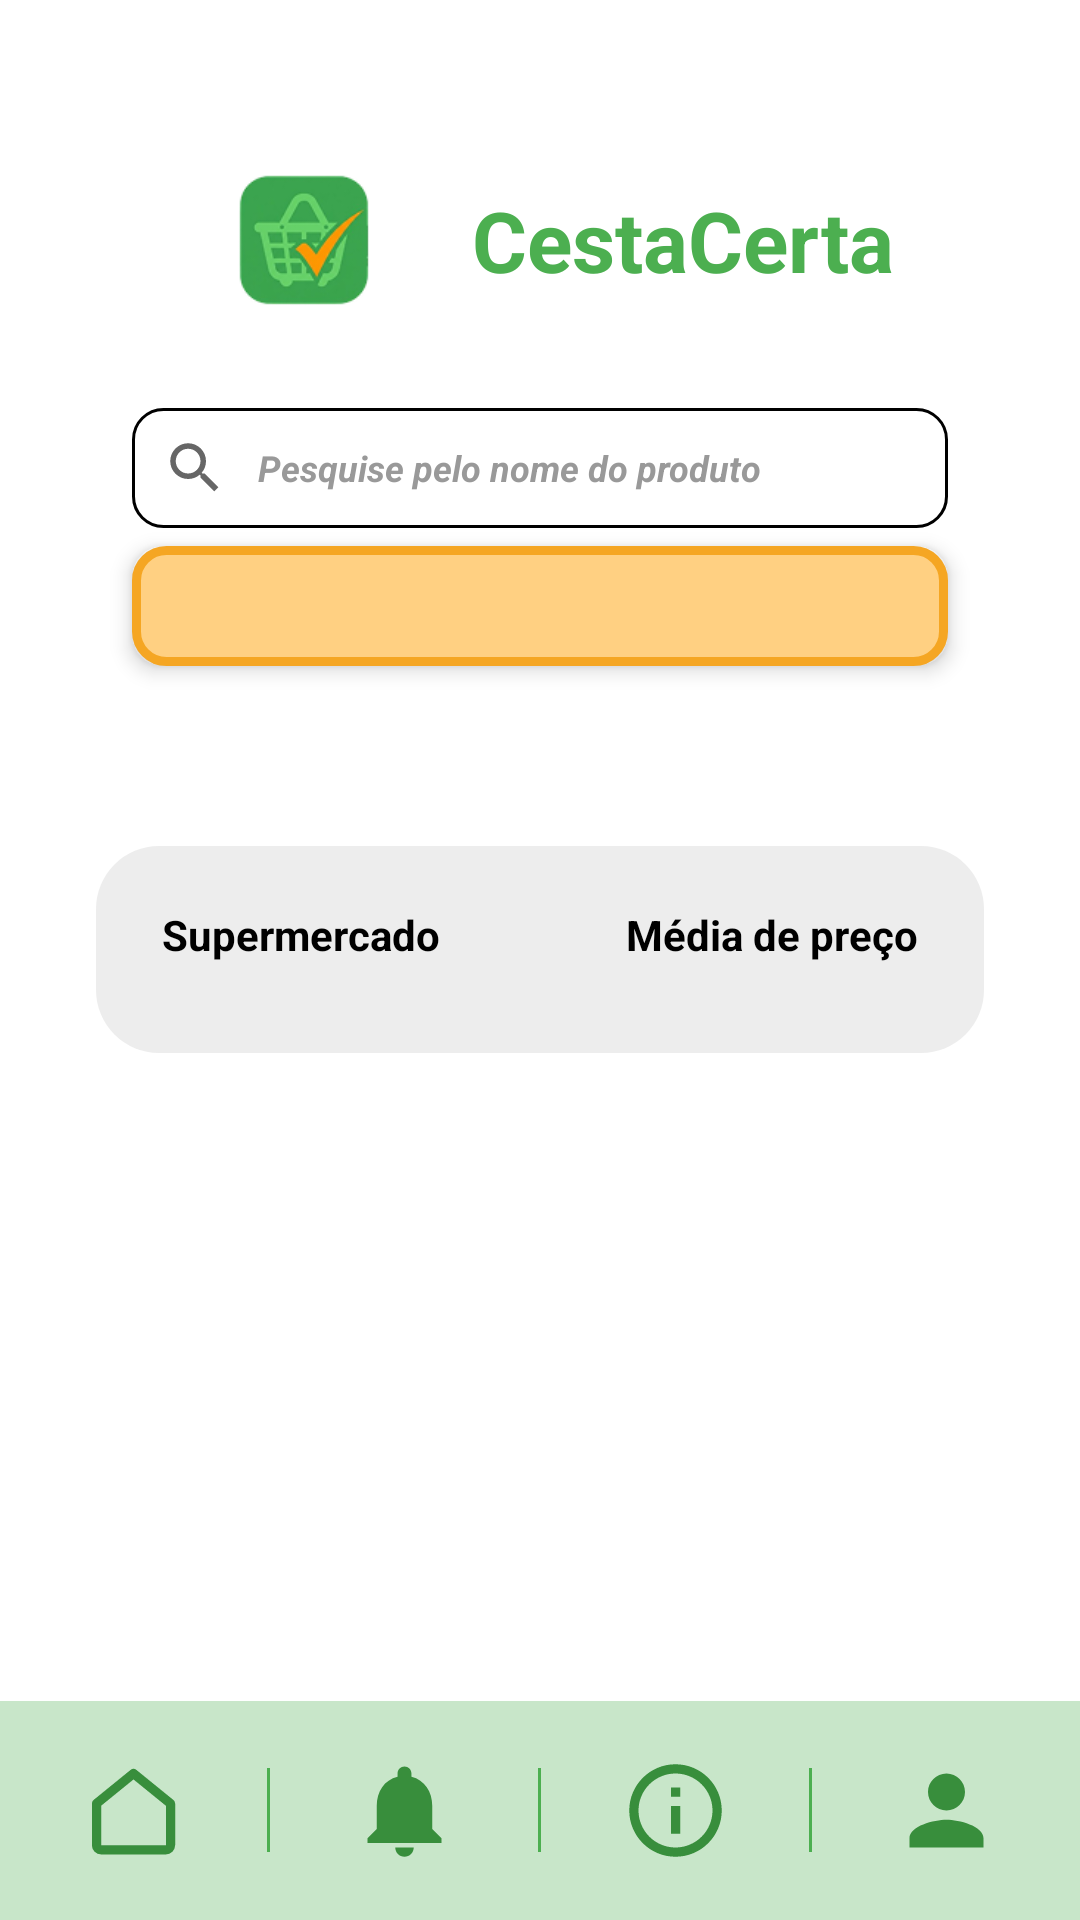

Icon click points for this 1080px×1920px phone screenshot, format (x=x, y=y):
Início: (x=134, y=1811)
Notificações: (x=404, y=1811)
Perfil: (x=946, y=1810)
Sobre nós: (x=675, y=1810)
